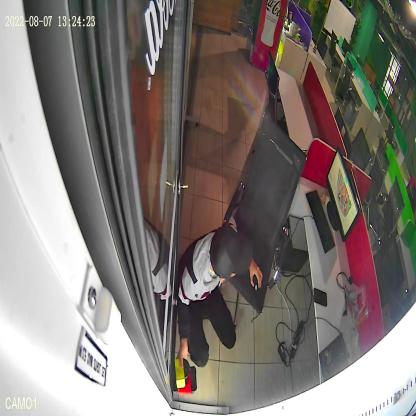red: (171, 366, 197, 396)
yellow: (172, 358, 190, 388)
